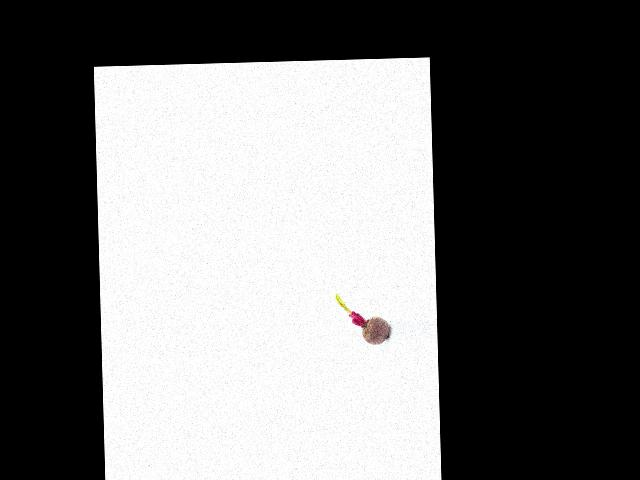beet: (335, 293, 389, 346)
